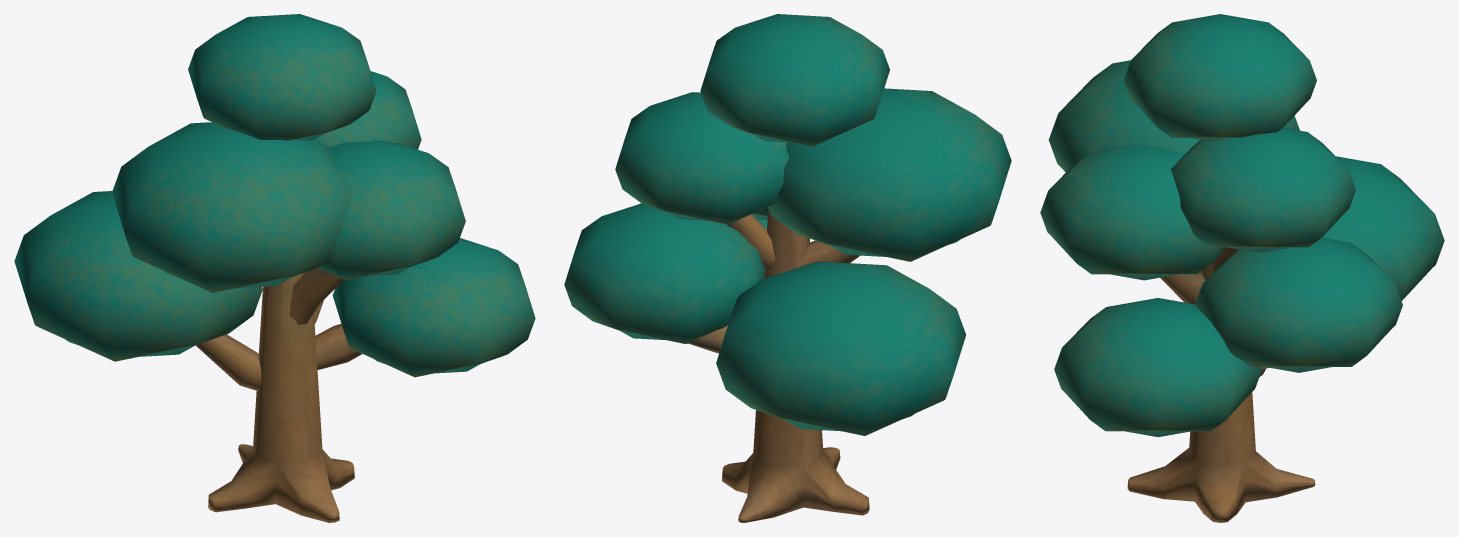
File: wood_01.fbx
The picture shows the model from 3 angles, left to right: view 1: azimuth 30°, elevation 25°; view 2: azimuth 150°, elevation 25°; view 3: azimuth 270°, elevation 25°; orthographic projection.
Parts seen in each view (by area): view 1: wood_01; view 2: wood_01; view 3: wood_01.
Boxes of the visible parts, <box> form: wood_01: <box>14,14,535,522</box>; wood_01: <box>564,14,1011,522</box>; wood_01: <box>1040,14,1444,522</box>.
Size of the model in its own units: 96.57 by 103 by 81.83.
Materials: 1 (1 with a texture image).
